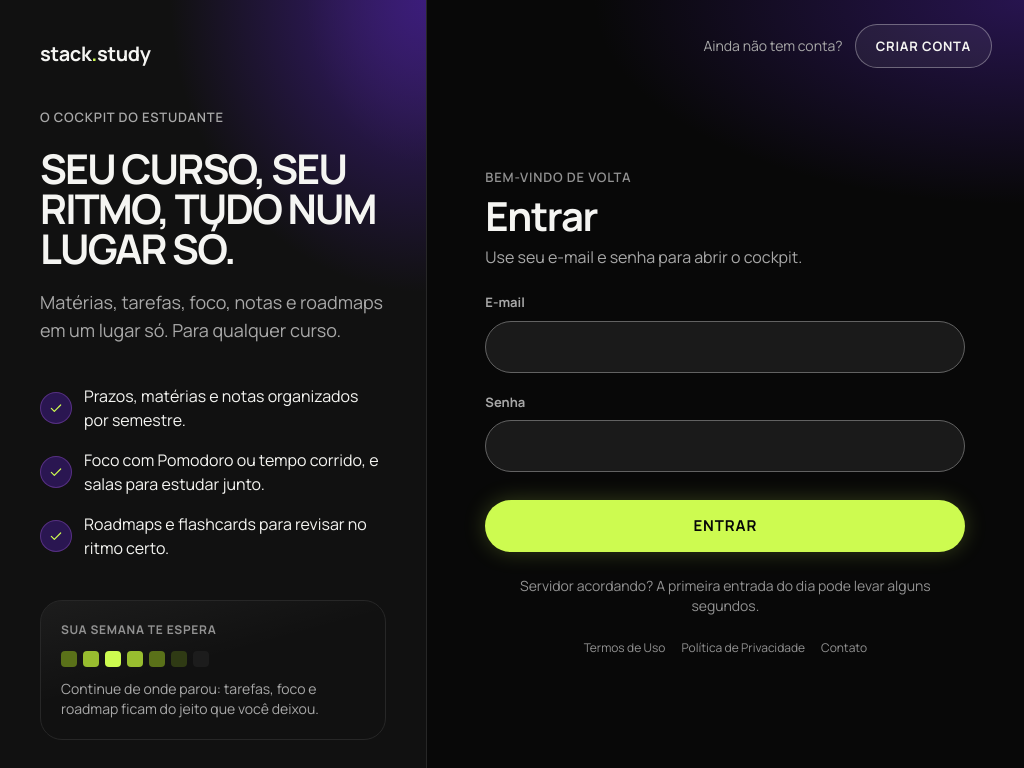
Test: auth flow (UI) › shows a translated error for invalid credentials
Type "ada@example.com" into the field labelled "E-mail" at [725, 347], box [485,321,965,373]
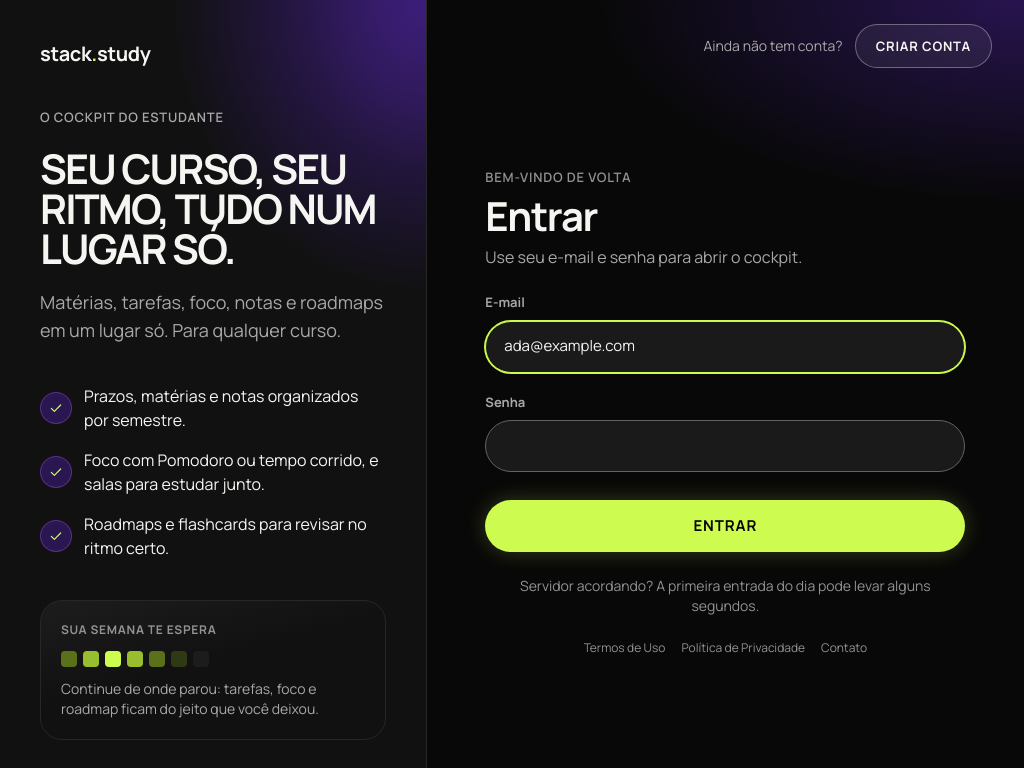
Type "wrong-pass" into the password field labelled "Senha" at [725, 446], box [485,420,965,472]
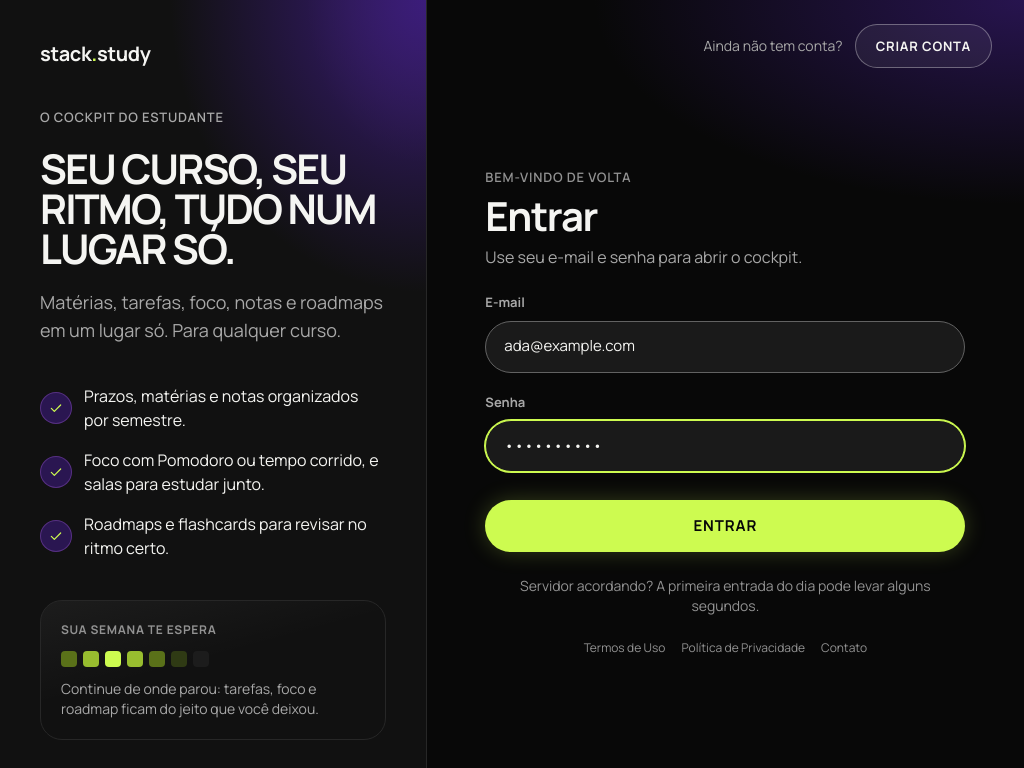
Click the button "Entrar" at [725, 526], box [485,500,965,552]
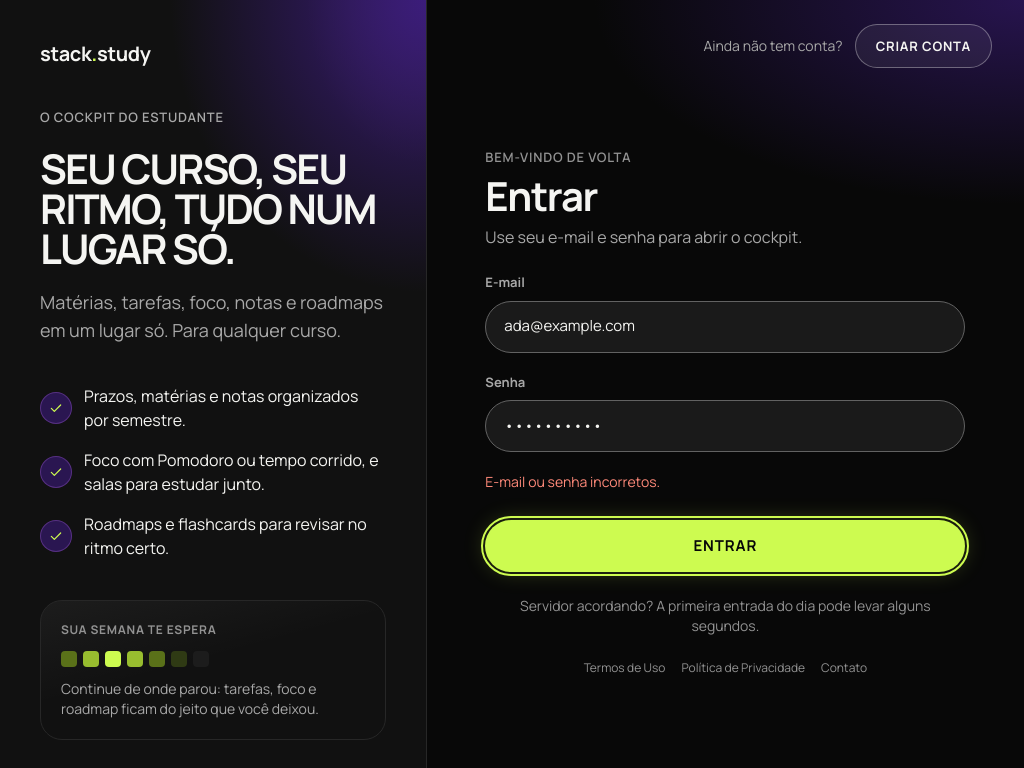
Expected: the message reads "E-mail ou senha incorretos.", [485,472,660,491]
